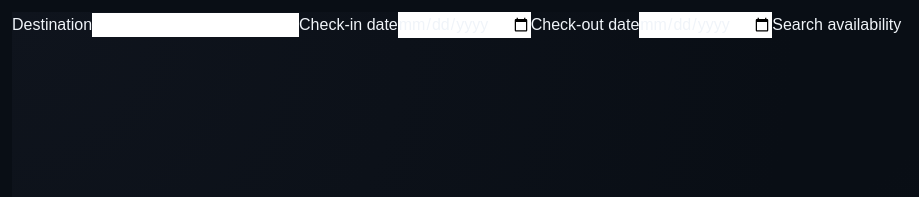
Test: BookingForm › validates required fields
Step 1. Click the button "Search availability" → (837, 25), box [772,13,901,37]
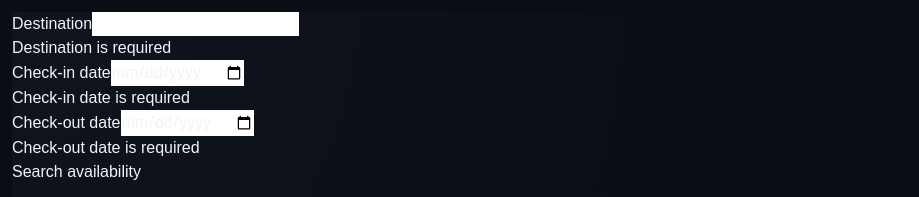
Expected: the text "Destination is required" is shown, [12,39,171,56]
Expected: the text "Check-in date is required" is shown, [12,89,190,106]
Expected: the text "Check-out date is required" is shown, [12,139,200,156]
